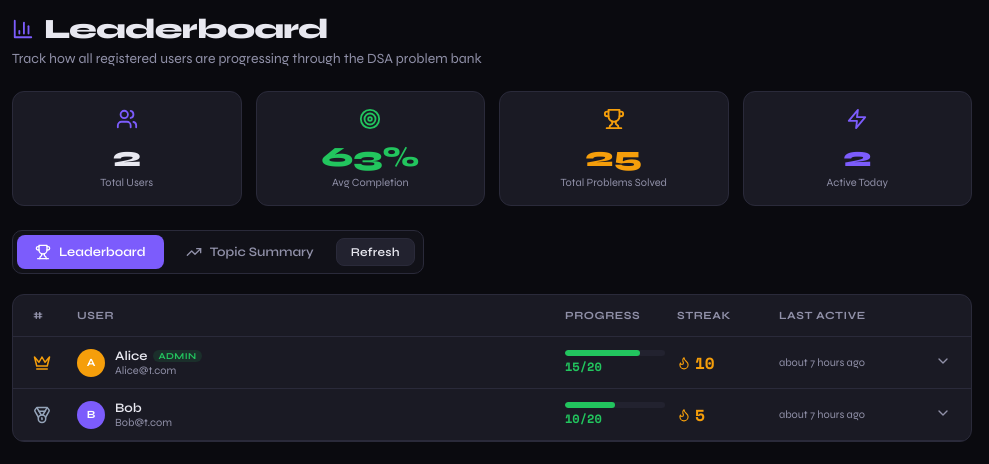
Test case: ProgressPage › switches to topic summary
The image size is (989, 464).
Click the button "Topic Summary": (250, 252) x1=168 y1=235 x2=332 y2=269
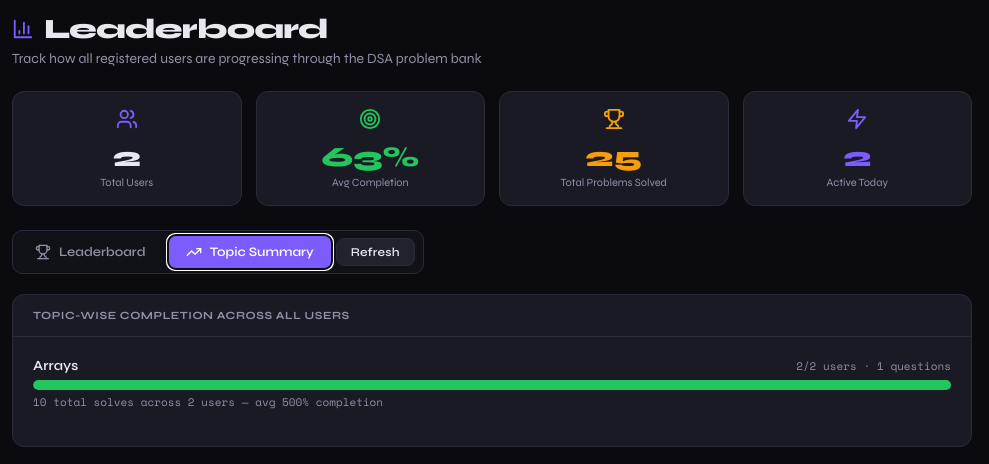
Expected: the text "Topic-wise completion across all users" is shown, x1=13 y1=295 x2=971 y2=337
